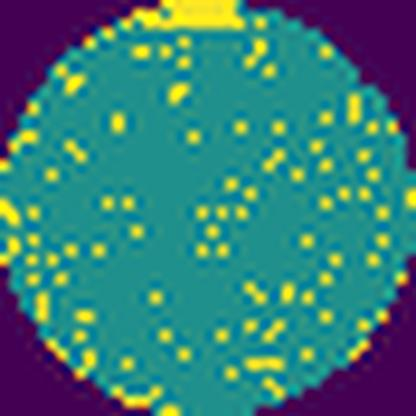Edge-Loc: (114, 0, 251, 31)
